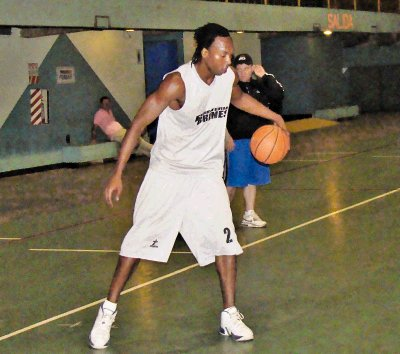basketball: (250, 124, 289, 164)
